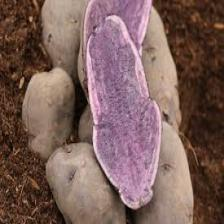Damaged potato: (128, 109, 196, 224), (44, 140, 130, 222), (138, 6, 186, 130), (20, 67, 77, 157), (38, 0, 89, 64)
Defected potato: (82, 16, 162, 206)
